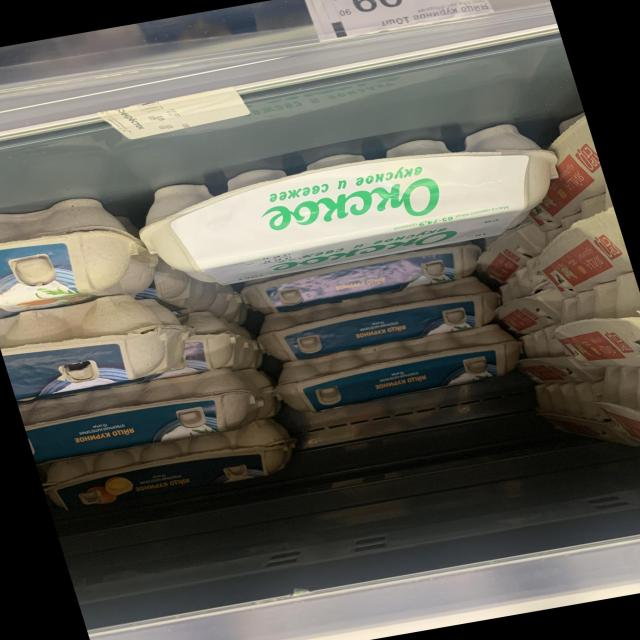organic waste: (125, 117, 572, 296), (36, 418, 305, 519), (18, 362, 283, 463), (249, 271, 515, 367), (272, 324, 532, 418), (0, 281, 199, 400), (232, 241, 491, 316), (0, 189, 151, 317)
